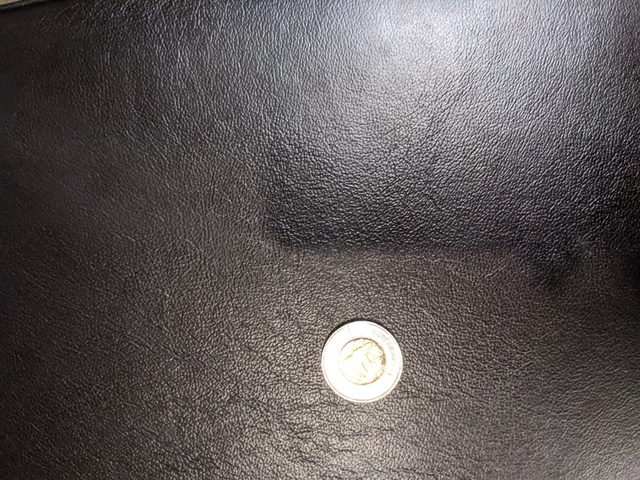twonie: (300, 300, 415, 414)
